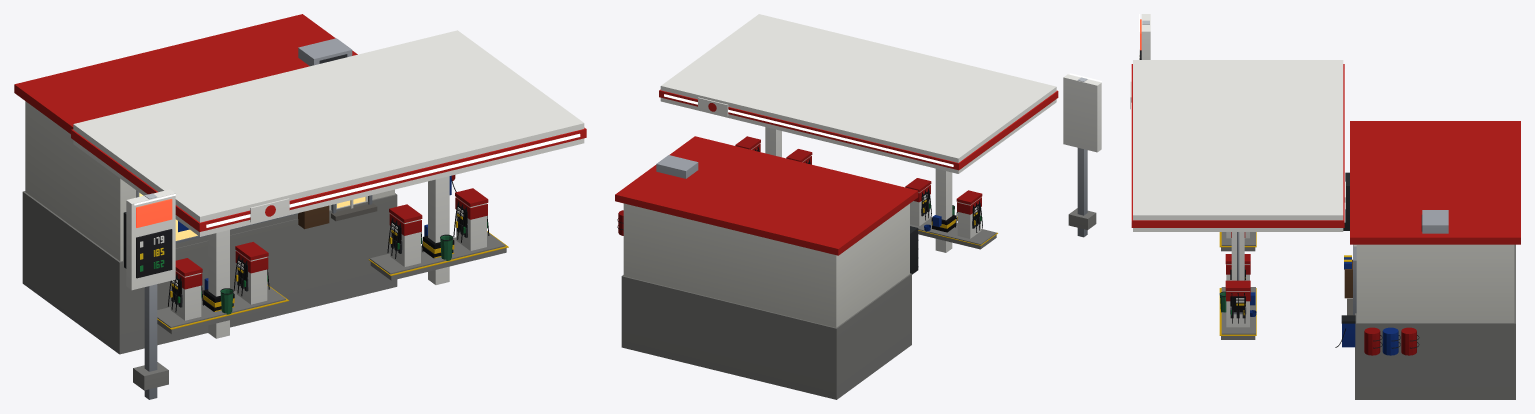
The model's file is GasStation.fbx.
3 renders of one model, left to right at view 1: azimuth 30°, elevation 25°; view 2: azimuth 150°, elevation 25°; view 3: azimuth 270°, elevation 25°, orthographic. The views are drawn at different scales.
Parts seen in each view (by area): view 1: GasStation_LOD0; view 2: GasStation_LOD0; view 3: GasStation_LOD0.
Part boxes in pixels (<box>): GasStation_LOD0: <box>14,14,586,399</box>; GasStation_LOD0: <box>615,14,1101,399</box>; GasStation_LOD0: <box>1130,14,1520,399</box>.
Size of what is drawn, in the model's own units: 16.81 by 9.53 by 14.86.
Materials: 1 (1 with a texture image).
